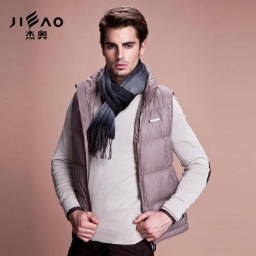face: (99, 6, 150, 75)
